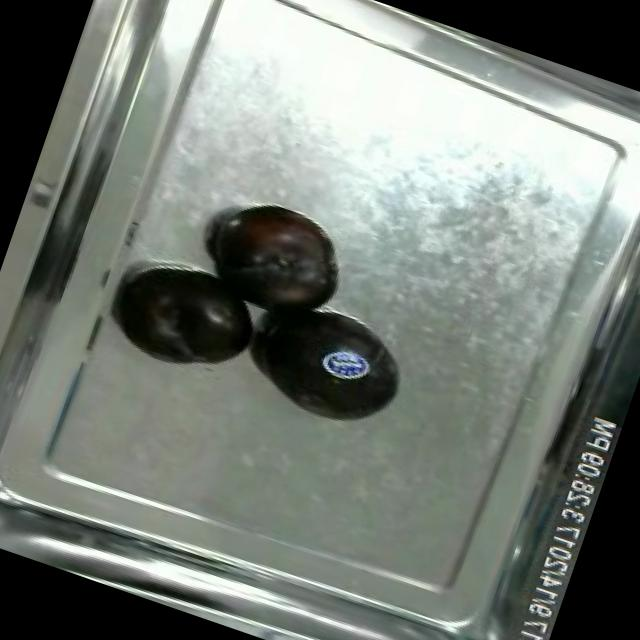Fruit: (239, 289, 423, 446), (101, 244, 272, 391), (192, 188, 354, 331)
